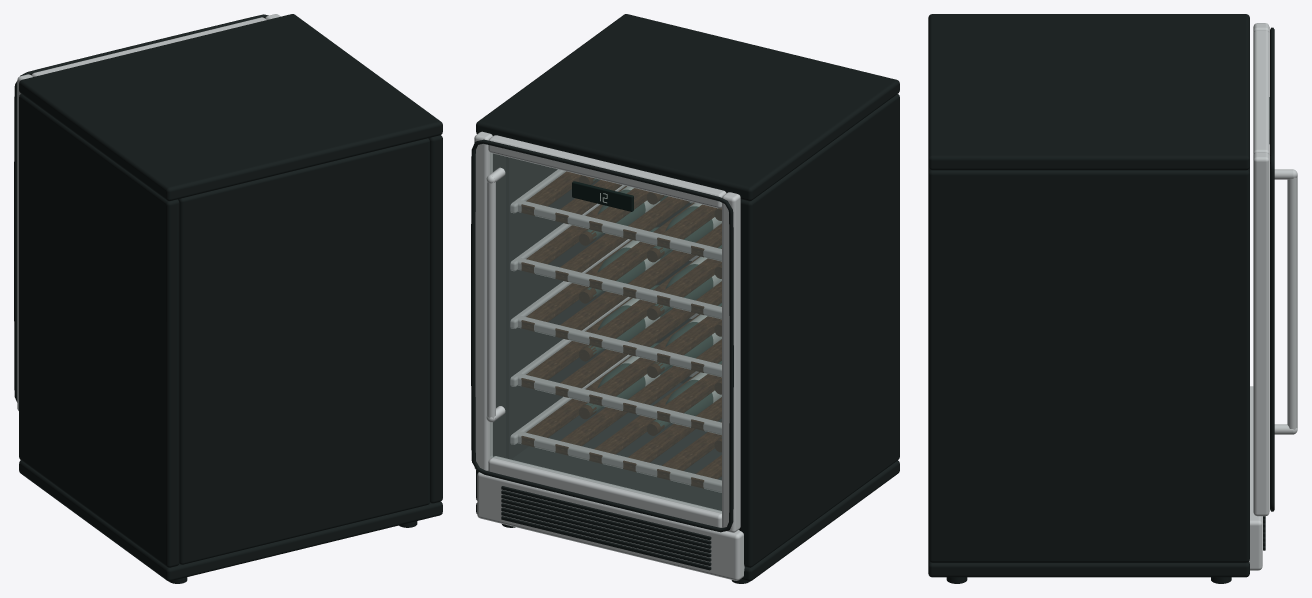
Rendered from kitchen-wine-cooler.glb.
3 views of the same model, side by side, from view 1: azimuth 30°, elevation 25°; view 2: azimuth 150°, elevation 25°; view 3: azimuth 270°, elevation 25° (orthographic). The views are drawn at different scales.
Parts seen in each view (by area): view 1: dark_surfaces, steel_surfaces; view 2: dark_surfaces, glass_surfaces, steel_surfaces, wood_surfaces; view 3: dark_surfaces, steel_surfaces.
Boxes of the visible parts, <box> form: dark_surfaces: <box>14,14,442,583</box>; steel_surfaces: <box>17,14,280,460</box>; dark_surfaces: <box>471,14,899,583</box>; glass_surfaces: <box>490,152,721,513</box>; steel_surfaces: <box>474,131,744,580</box>; wood_surfaces: <box>521,171,721,488</box>; dark_surfaces: <box>928,14,1274,583</box>; steel_surfaces: <box>1249,23,1297,570</box>.
Bounding box in the file's own units: 0.595 × 0.835 × 0.643.
Materials: 4 (3 with a texture image).
